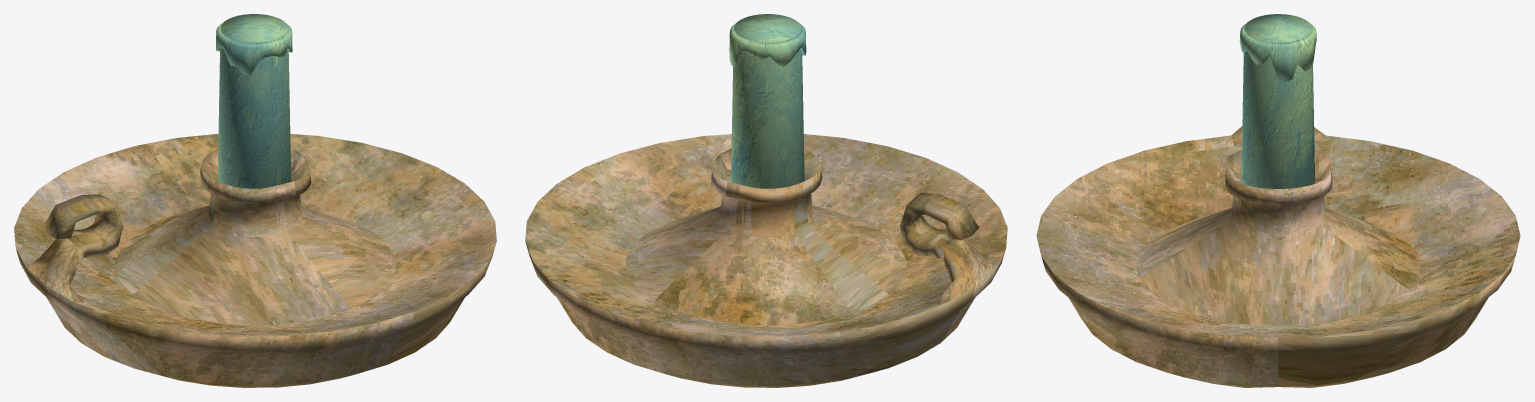
File: candle_holder-no_stearine.glb
3 renders of one model, left to right at view 1: azimuth 30°, elevation 25°; view 2: azimuth 150°, elevation 25°; view 3: azimuth 270°, elevation 25°, orthographic.
Parts seen in each view (by area): view 1: candle_holder-no_stearine; view 2: candle_holder-no_stearine; view 3: candle_holder-no_stearine.
Boxes of the visible parts, <box> form: candle_holder-no_stearine: <box>14,14,496,387</box>; candle_holder-no_stearine: <box>525,14,1007,387</box>; candle_holder-no_stearine: <box>1036,14,1520,387</box>.
Size of the model in its own units: 0.7781 by 0.5326 by 0.7781.
2 materials, 2 textured.
